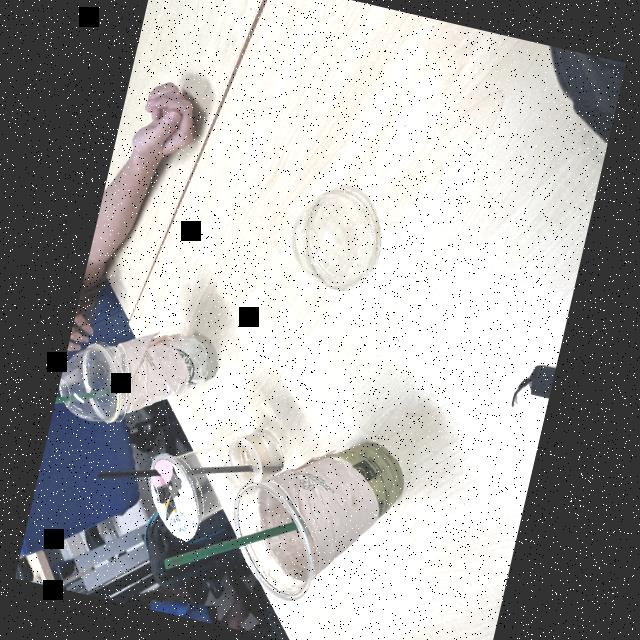plastic_cup: (214, 412, 414, 624), (132, 400, 294, 562), (67, 295, 229, 448)
plastic_cup_lid: (274, 172, 396, 302), (52, 334, 137, 431)
straw: (164, 522, 304, 572), (93, 464, 278, 479), (54, 384, 141, 405)
